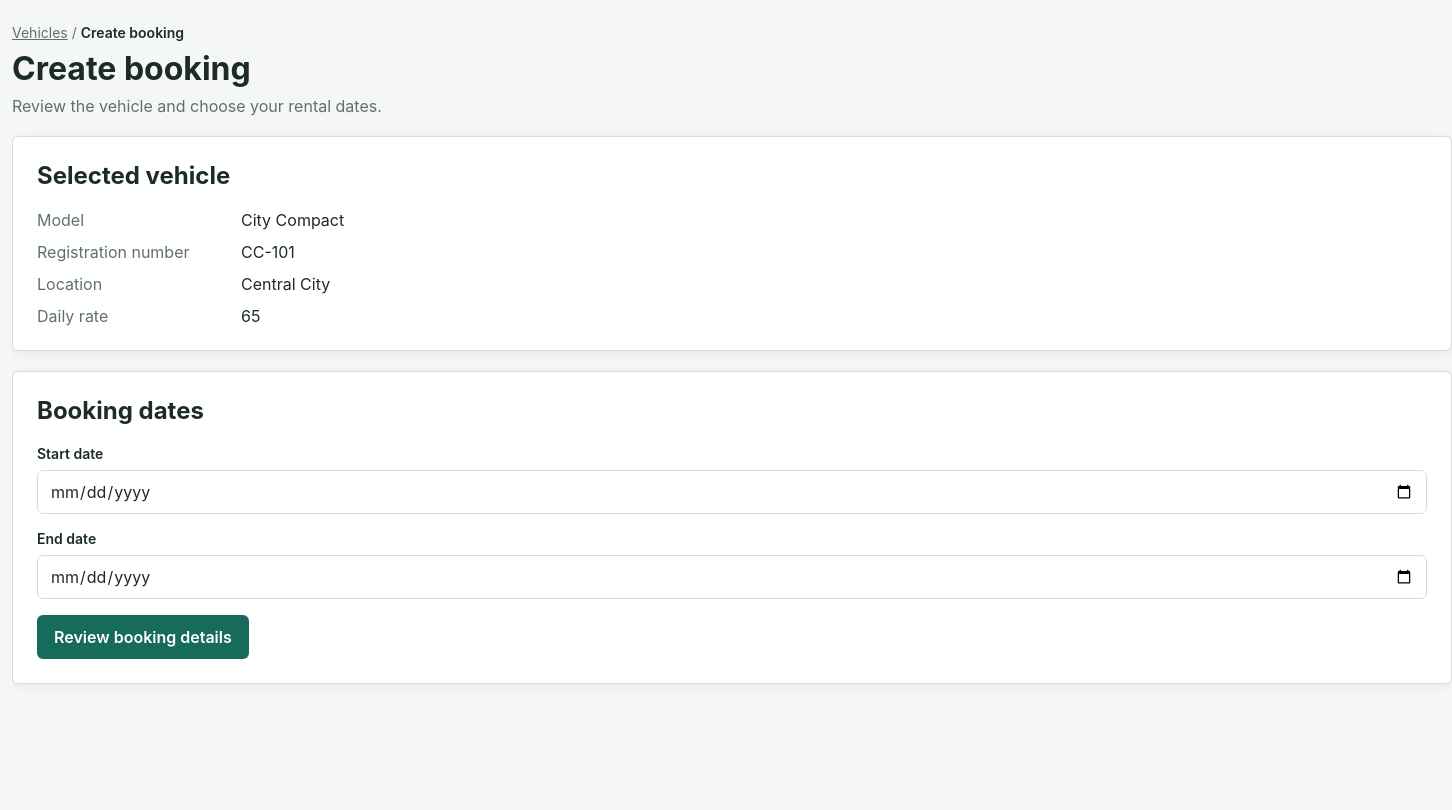
Test: CreateBookingPage › shows required errors when booking dates are empty
Click the button "Review booking details" at x=143, y=637, box [37, 615, 249, 659]
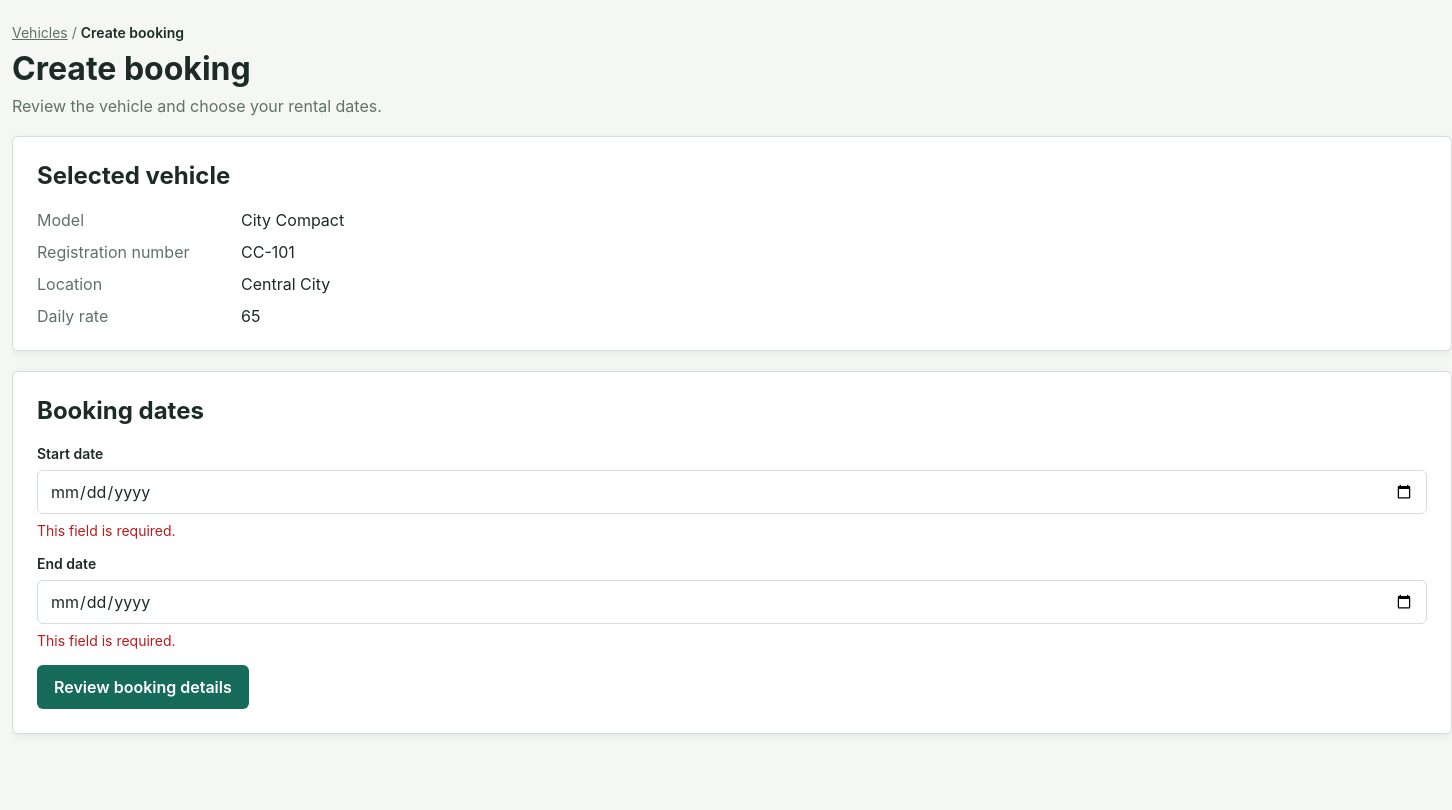
Expected: the text "This field is required." is shown 2 times, [37, 522, 176, 539]; [37, 632, 176, 649]
